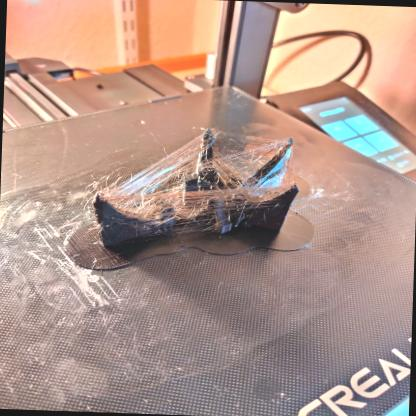fail: (124, 138, 202, 191), (213, 130, 262, 173), (122, 194, 176, 220), (175, 190, 216, 214)
